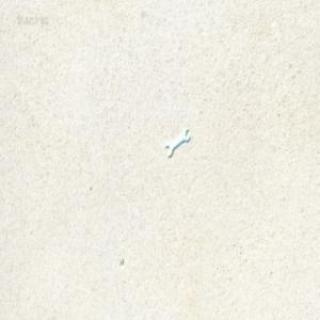Wrenchtrack_idkeyframe: (164, 126, 187, 156)
